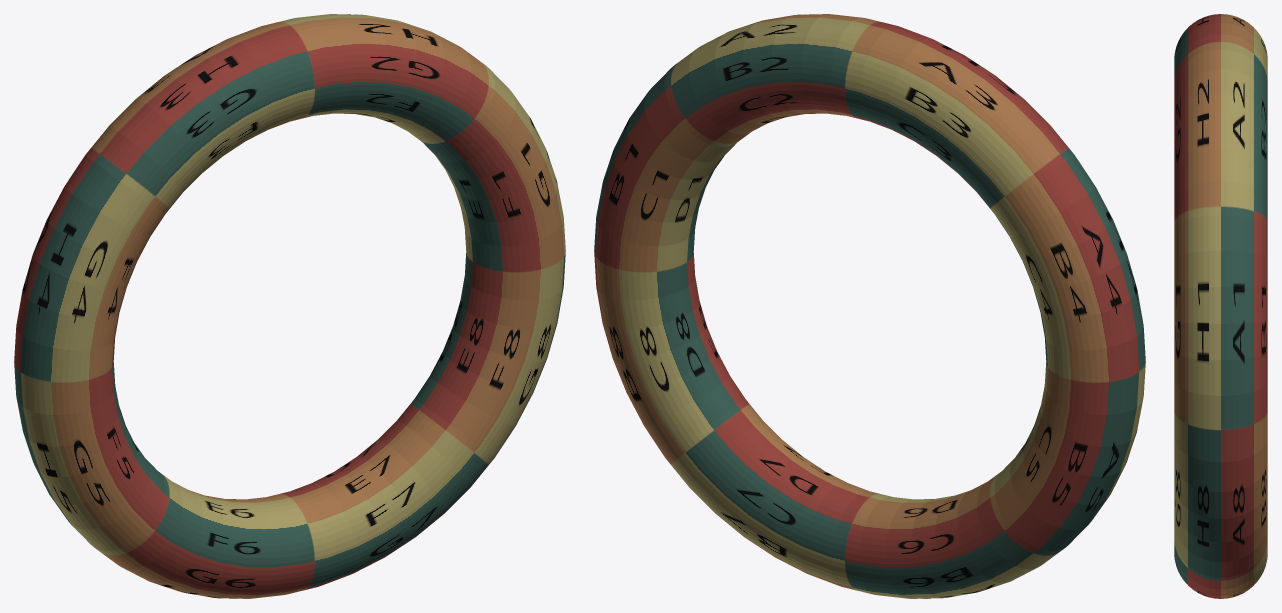
Rendered from texture_torus_R7_r3.glb.
The picture shows the model from 3 angles, left to right: view 1: azimuth 30°, elevation 25°; view 2: azimuth 150°, elevation 25°; view 3: azimuth 270°, elevation 25°; orthographic projection. The views are drawn at different scales.
Parts seen in each view (by area): view 1: world; view 2: world; view 3: world.
Boxes of the visible parts, box(x1,y1,x2,y2) form: world: box(14, 14, 565, 598); world: box(594, 14, 1145, 598); world: box(1174, 14, 1267, 598).
Size of the model in its own units: 17.47 by 17.43 by 2.79.
Materials: 1 (1 with a texture image).
